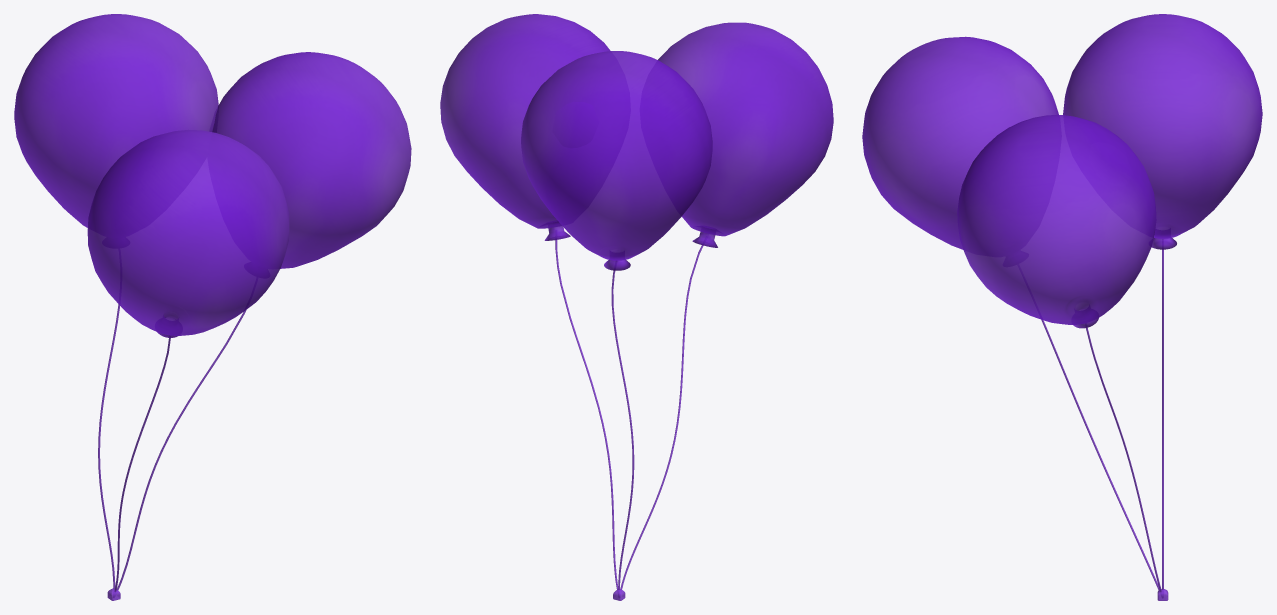
The model's file is BalloonGroup3_Ground.fbx.
3 views of the same model, side by side, from view 1: azimuth 30°, elevation 25°; view 2: azimuth 150°, elevation 25°; view 3: azimuth 270°, elevation 25° (orthographic). The views are drawn at different scales.
Parts seen in each view (by area): view 1: Blue Balloon.002; view 2: Blue Balloon.002; view 3: Blue Balloon.002.
Part boxes in pixels (x1,y1,x2,y2): Blue Balloon.002: (14, 14, 411, 600); Blue Balloon.002: (440, 14, 833, 600); Blue Balloon.002: (862, 14, 1262, 600).
Bounding box in the file's own units: 0.5701 × 0.9004 × 0.5685.
